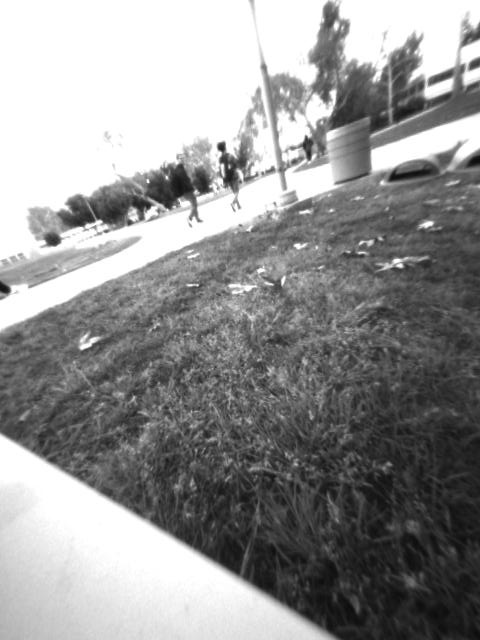trashcan: (325, 115, 377, 180)
